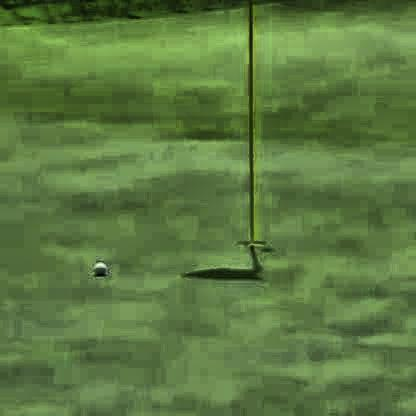golfball: (92, 260, 105, 273)
